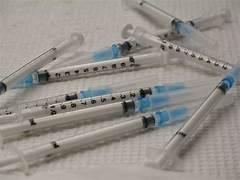Syringe: (0, 103, 195, 173), (0, 88, 205, 143), (0, 78, 217, 123), (155, 64, 239, 168), (0, 75, 180, 114), (19, 51, 167, 86), (122, 24, 231, 71), (0, 33, 83, 93), (124, 0, 216, 49), (47, 40, 146, 68), (187, 9, 230, 30)
